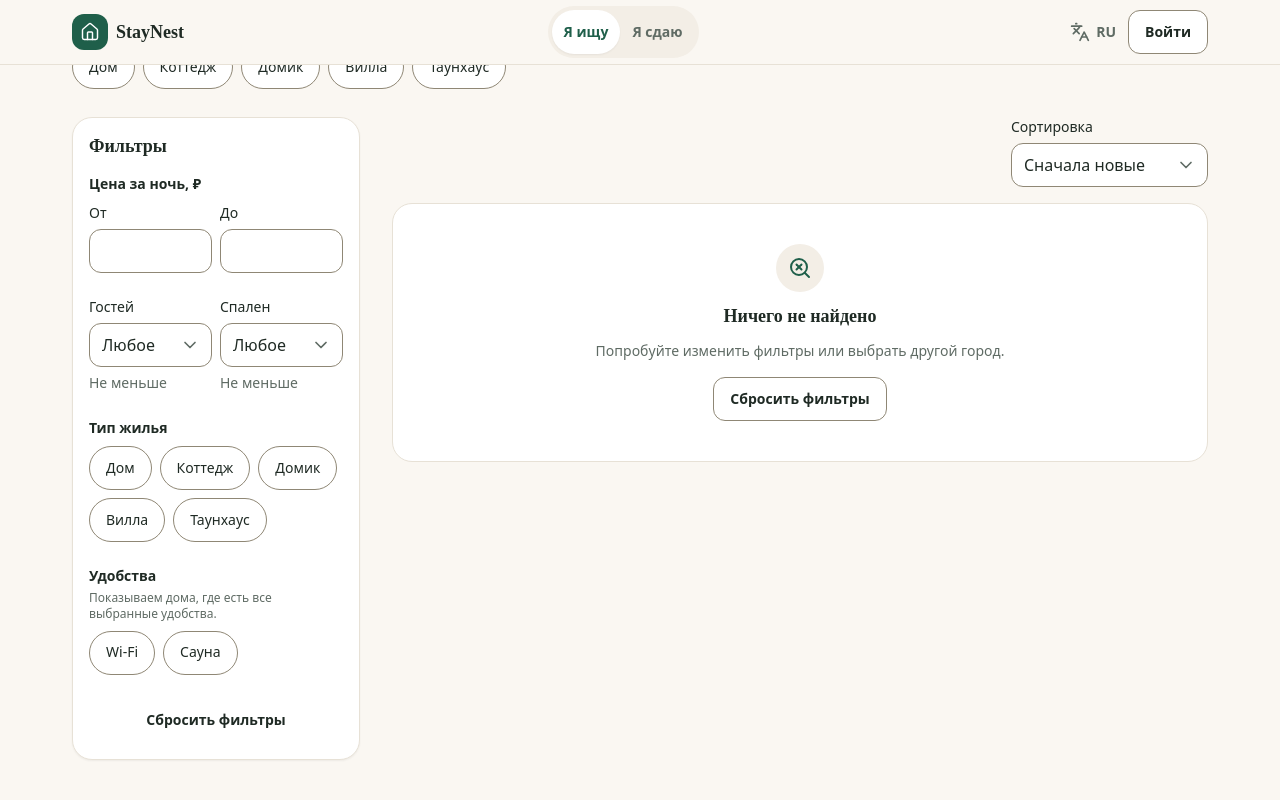
it: App › показывает пустую выдачу и сбрасывает фильтры
(page scrolled)
Expected: the heading "Ничего не найдено" is shown, [724, 304, 876, 329]
Step 1. Click the button "Сбросить фильтры" below "Тип жилья" → (216, 721), box [89, 699, 343, 743]
(page scrolled)
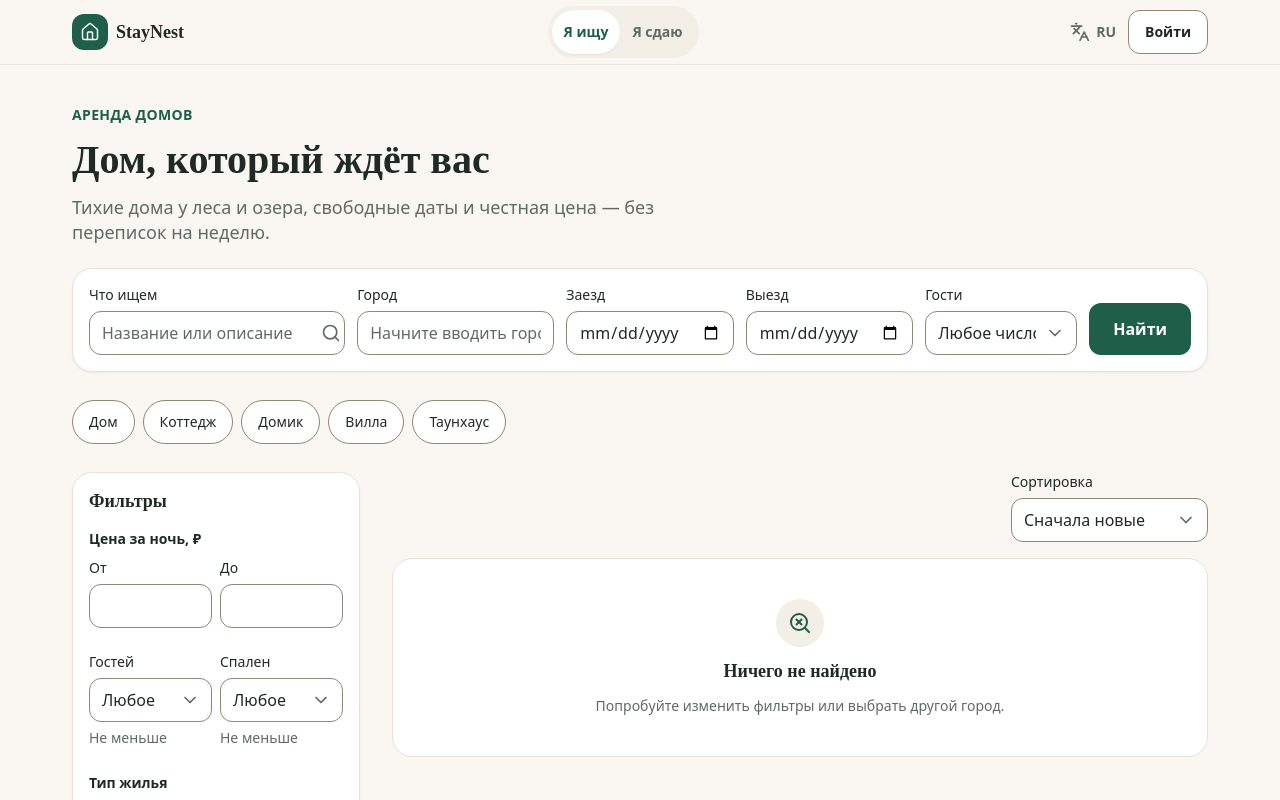
Now the field labelled "Город" is empty, box [357, 311, 554, 355]
